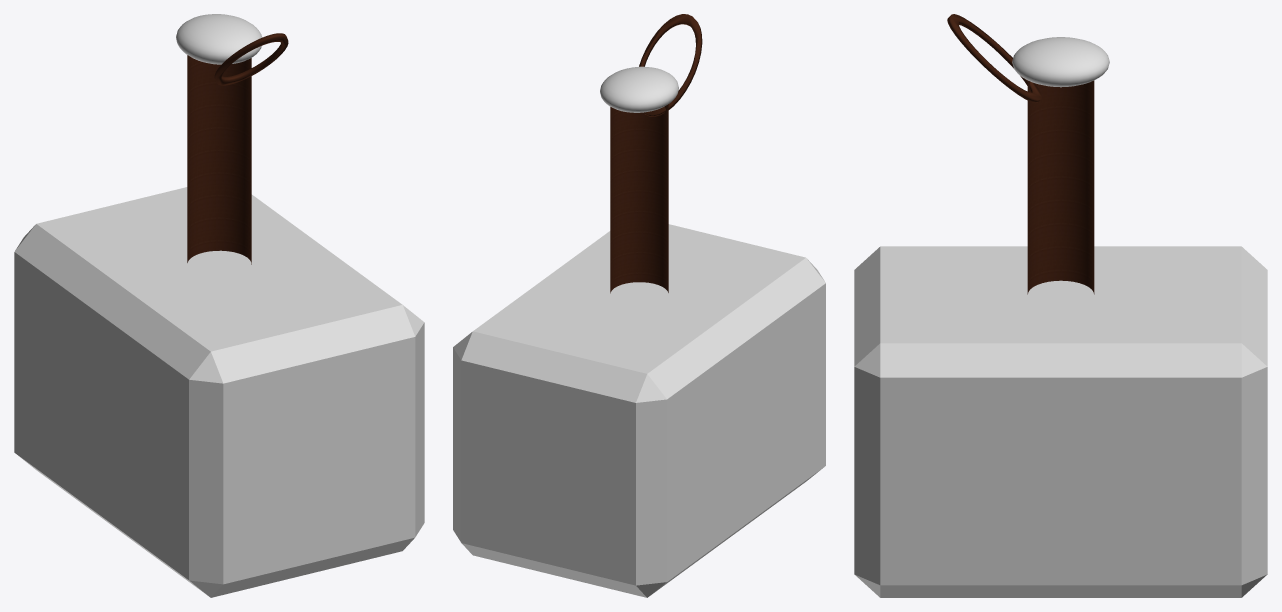
Rendered from thor_hammer.glb.
3 renders of one model, left to right at view 1: azimuth 30°, elevation 25°; view 2: azimuth 150°, elevation 25°; view 3: azimuth 270°, elevation 25°, orthographic. The views are drawn at different scales.
Parts seen in each view (by area): view 1: thor_hammer; view 2: thor_hammer; view 3: thor_hammer.
Part boxes in pixels (x1,y1,x2,y2): thor_hammer: (14, 14, 424, 597); thor_hammer: (453, 14, 825, 597); thor_hammer: (854, 14, 1267, 597).
Bounding box in the file's own units: 0.3158 × 0.6609 × 0.4643.
3 materials, 2 textured.
